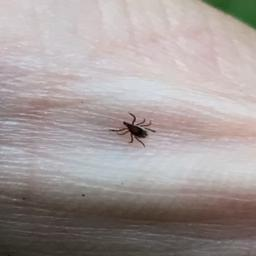Ixodes scapularis: (111, 111, 155, 148)
